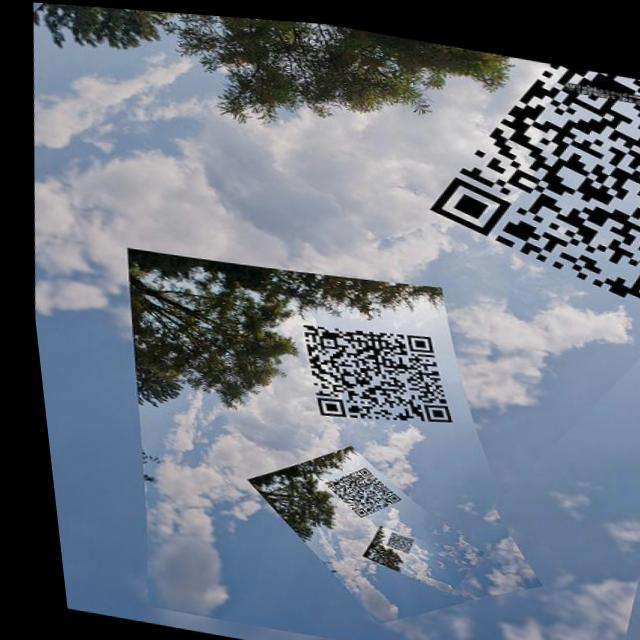qrcode: (403, 33, 640, 311), (287, 310, 455, 433), (308, 457, 396, 520), (372, 526, 403, 550)
